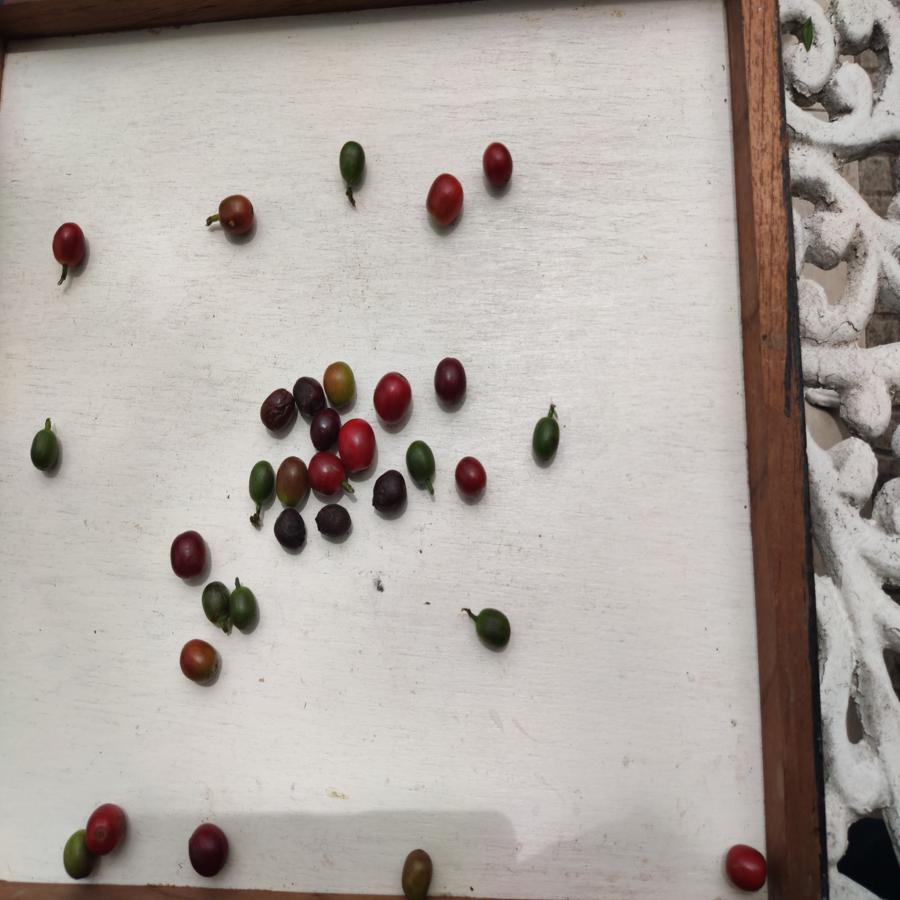Inmaduro: (404, 439, 440, 487), (28, 427, 59, 475), (475, 608, 512, 648), (529, 416, 561, 462), (246, 460, 275, 507), (229, 583, 258, 629), (338, 139, 368, 181), (201, 581, 229, 624)
Maduro: (423, 175, 467, 228), (370, 369, 412, 424), (85, 803, 127, 858), (338, 416, 377, 474), (723, 841, 767, 891), (481, 142, 517, 192)
Pinton: (178, 638, 222, 684), (213, 192, 255, 238), (400, 848, 435, 900), (275, 456, 309, 508), (323, 362, 357, 409), (64, 831, 87, 880)
Sobremaduro: (187, 822, 229, 877), (166, 529, 207, 578), (52, 220, 87, 268), (433, 357, 466, 407), (273, 507, 308, 552), (373, 470, 407, 515), (452, 455, 487, 498), (260, 389, 296, 430), (290, 374, 325, 416), (315, 504, 354, 540), (307, 408, 338, 449)
